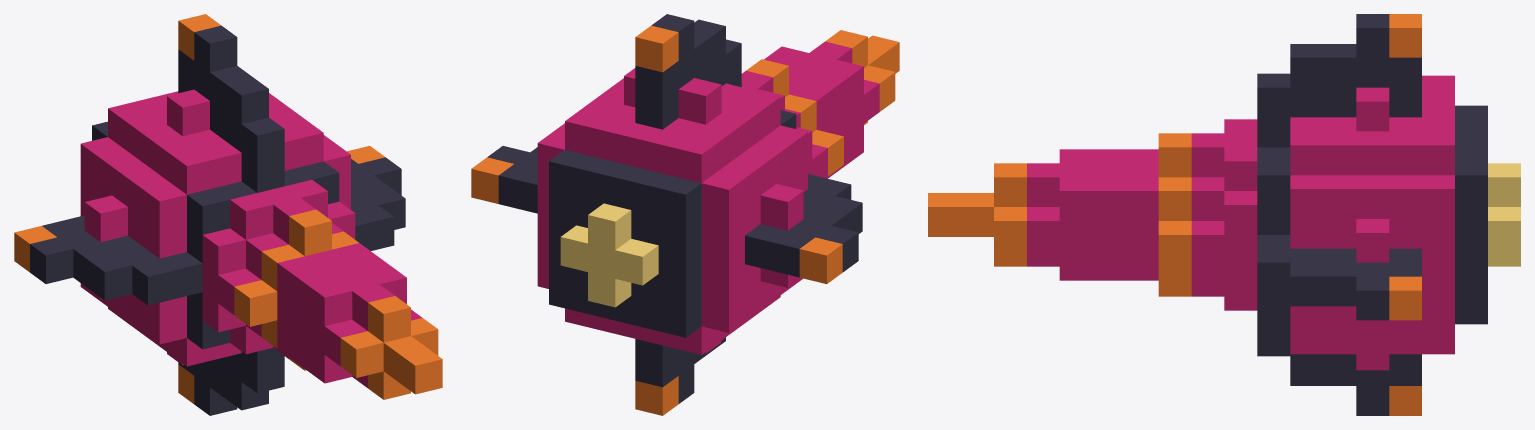
The model's file is Chaser.obj.
3 renders of one model, left to right at view 1: azimuth 30°, elevation 25°; view 2: azimuth 150°, elevation 25°; view 3: azimuth 270°, elevation 25°, orthographic. The views are drawn at different scales.
Visible parts, largest first — view 1: Chaser; view 2: Chaser; view 3: Chaser.
Boxes of the visible parts, x1,y1,x2,y2 form: Chaser: (14,14,442,415); Chaser: (471,14,899,415); Chaser: (928,14,1520,415).
Bounding box in the file's own units: 1.3 × 1.3 × 1.8.
Materials: 1 (1 with a texture image).
